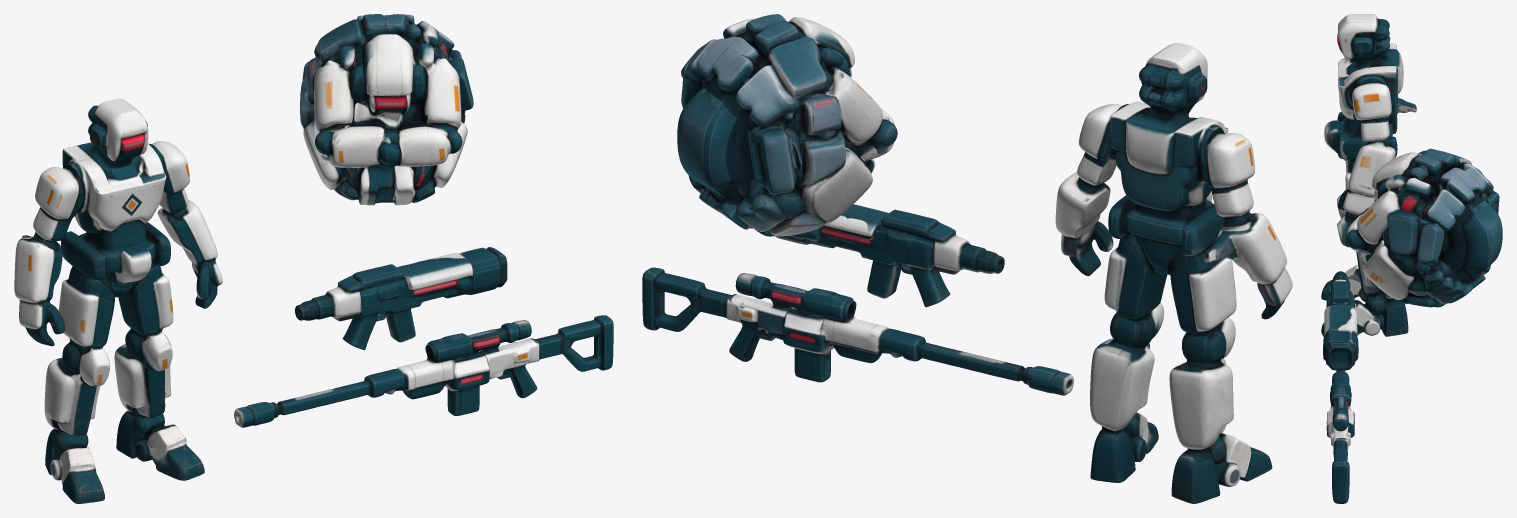
File: sentinel.glb
The picture shows the model from 3 angles, left to right: view 1: azimuth 30°, elevation 25°; view 2: azimuth 150°, elevation 25°; view 3: azimuth 270°, elevation 25°; orthographic projection. The views are drawn at different scales.
Size of the model in its own units: 1.89 by 1.19 by 0.637.
Materials: 1 (1 with a texture image).
